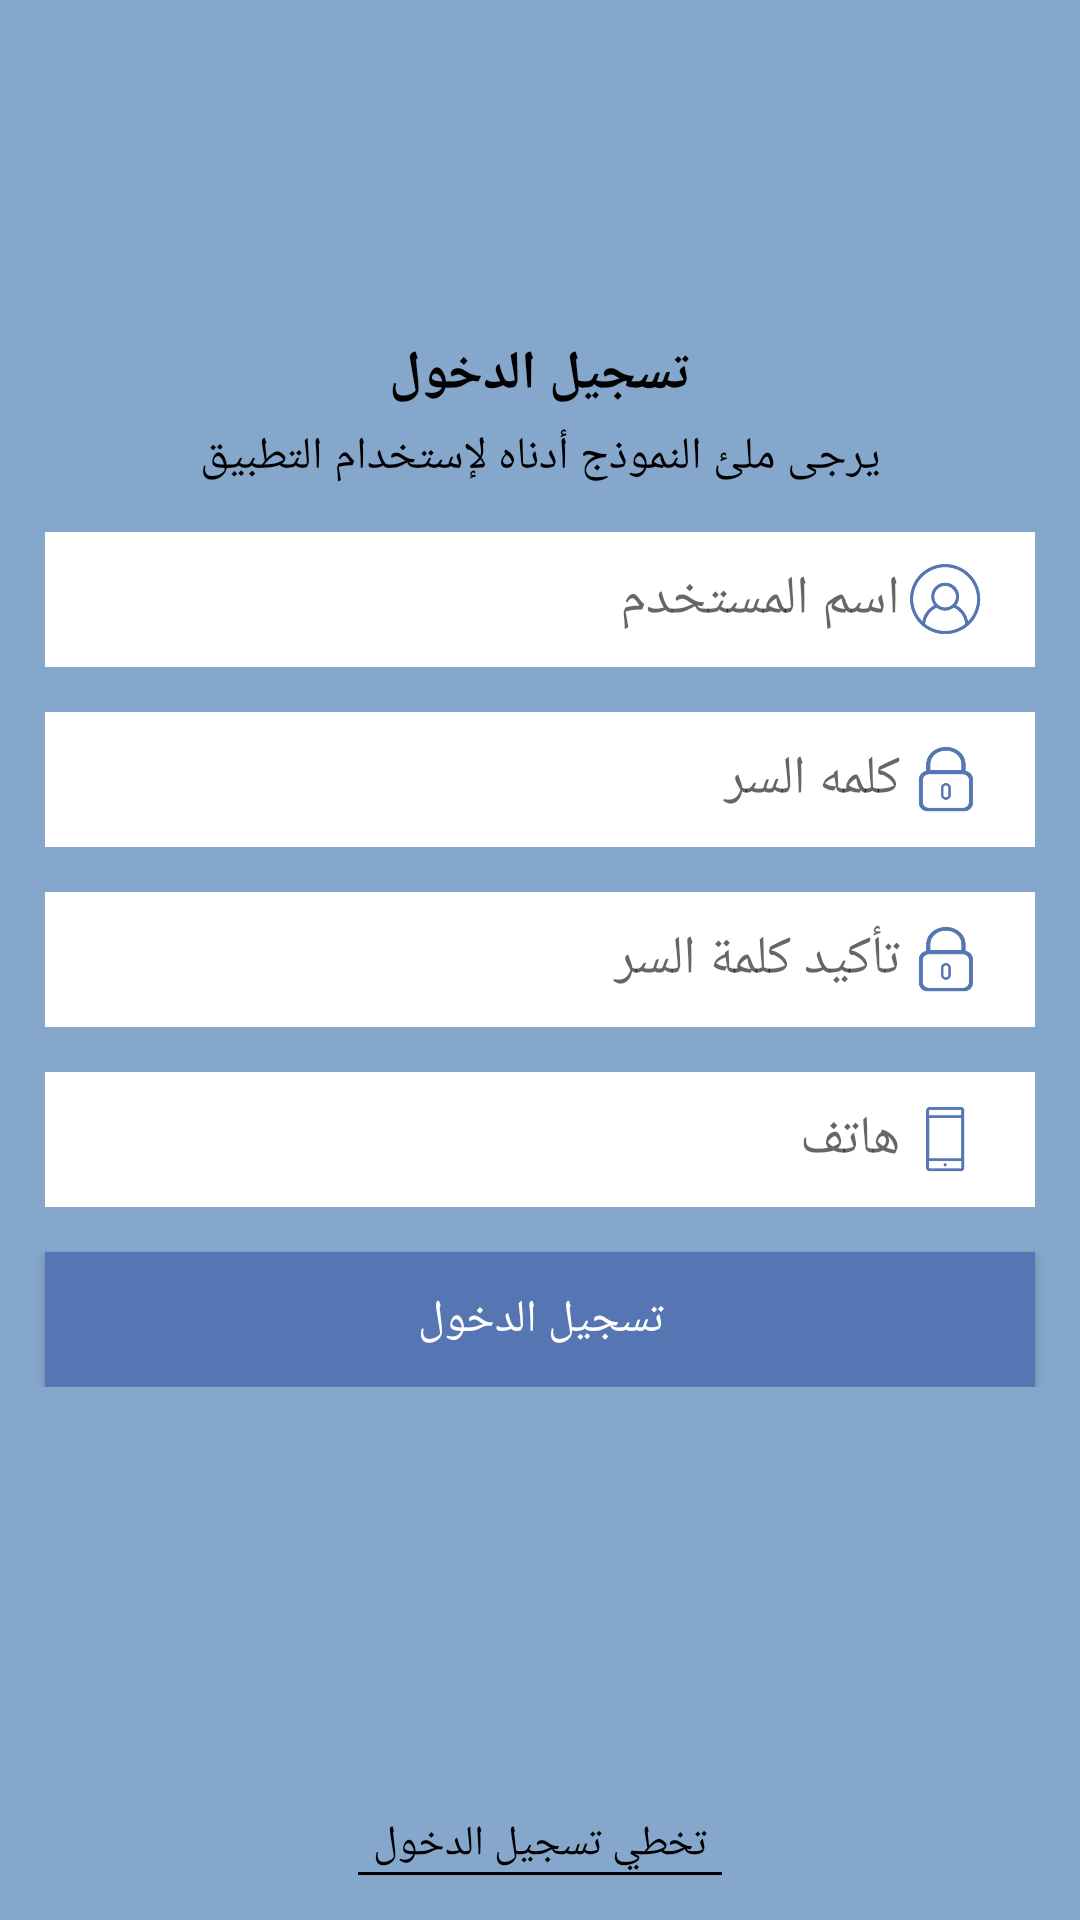

Named icons in this screenshot (1080px x 1920px) and their centers, (x=x, y=y):
lock: (x=946, y=779), (x=946, y=959)
profile: (x=945, y=599)
